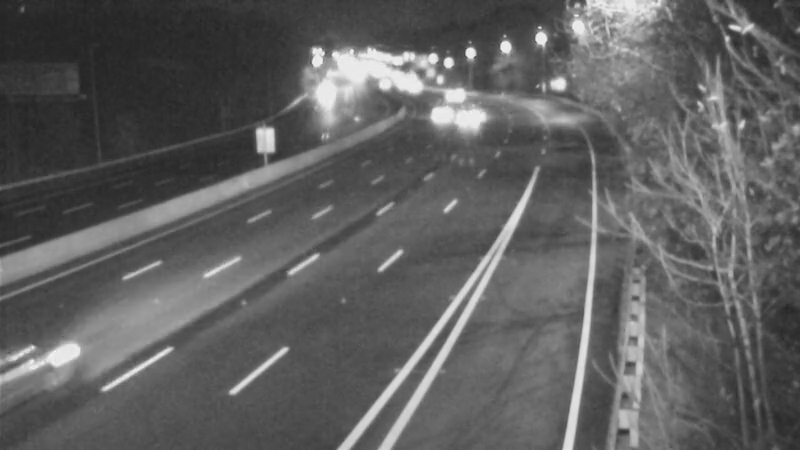vehicle: (1, 313, 98, 423), (431, 69, 481, 119), (409, 92, 459, 142), (446, 92, 496, 142), (298, 68, 348, 118)
